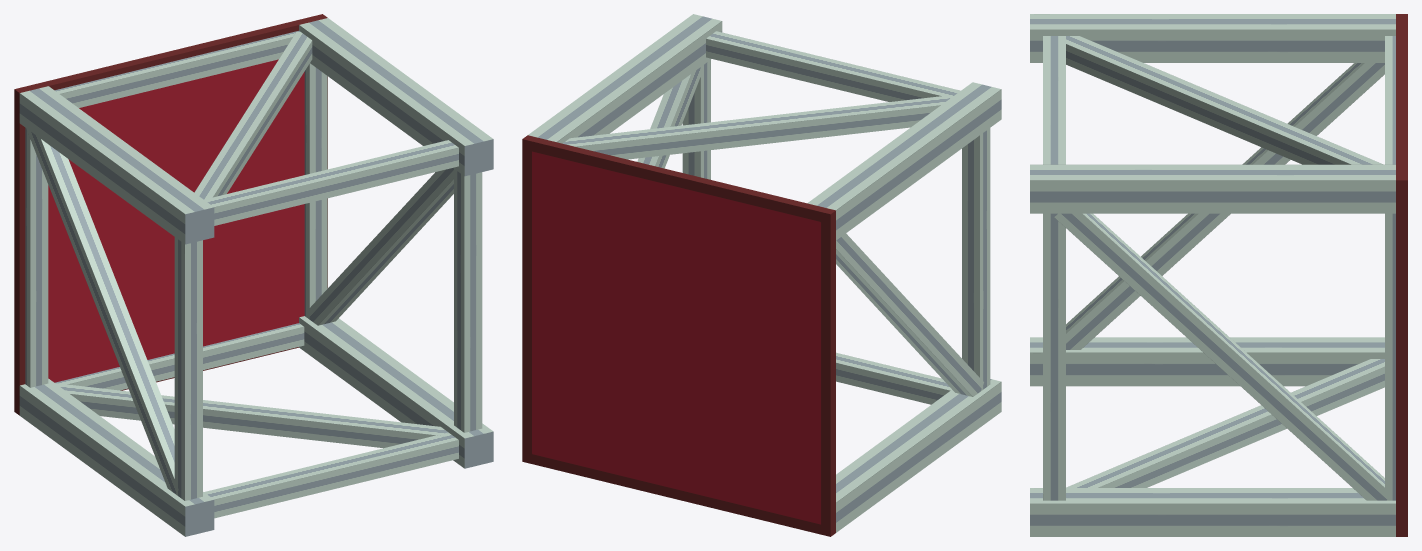
The model's file is ScaffoldingAtas.fbx.
3 renders of one model, left to right at view 1: azimuth 30°, elevation 25°; view 2: azimuth 150°, elevation 25°; view 3: azimuth 270°, elevation 25°, orthographic. The views are drawn at different scales.
Visible parts, largest first — view 1: ScafffoldingAtas.001; view 2: ScafffoldingAtas.001; view 3: ScafffoldingAtas.001.
Part boxes in pixels (x1,y1,x2,y2): ScafffoldingAtas.001: (14, 14, 493, 536); ScafffoldingAtas.001: (522, 14, 1001, 536); ScafffoldingAtas.001: (1030, 14, 1407, 536).
Size of the model in its own units: 100 by 100 by 96.02.
